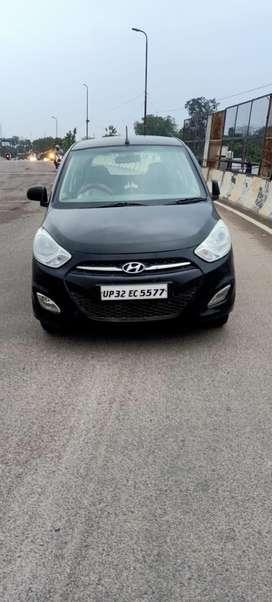UP32EC5577: (98, 281, 166, 299)
